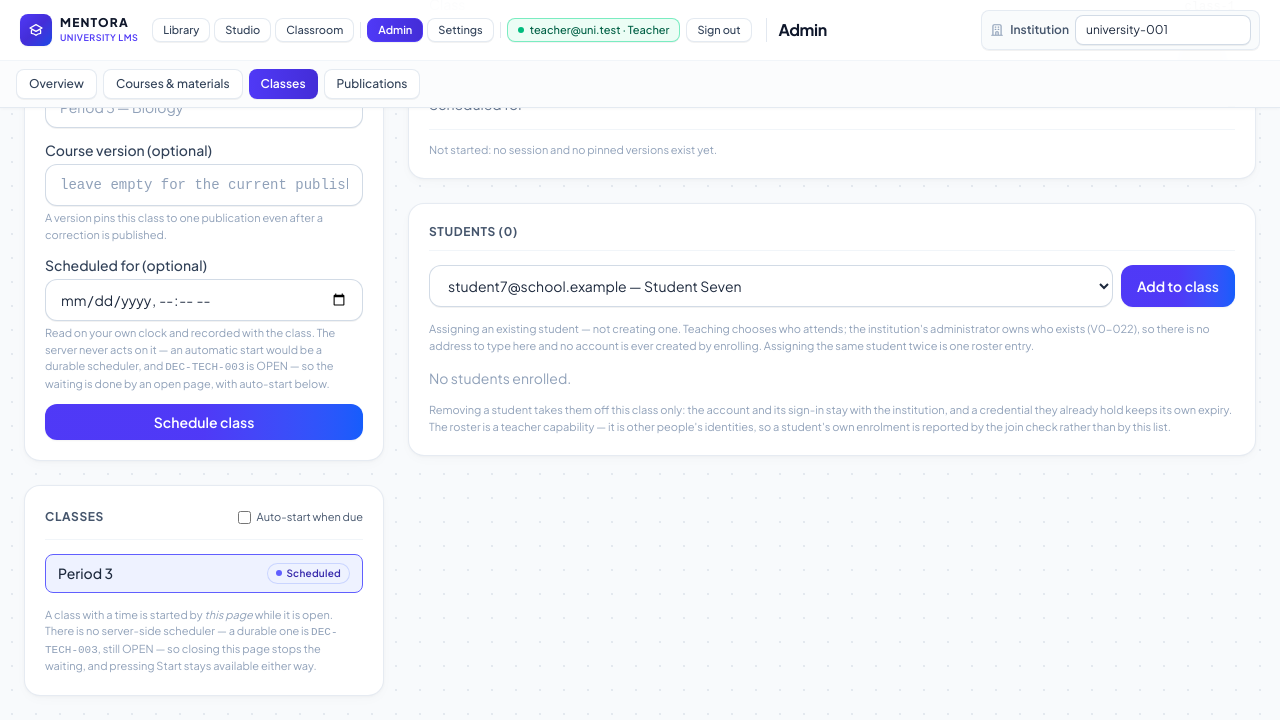
AdminPage — classes › starts a class and assigns an existing student to its roster
(page scrolled)
Click the button "Period 3 Scheduled": [86, 573] box [45,554,363,593]
(page scrolled)
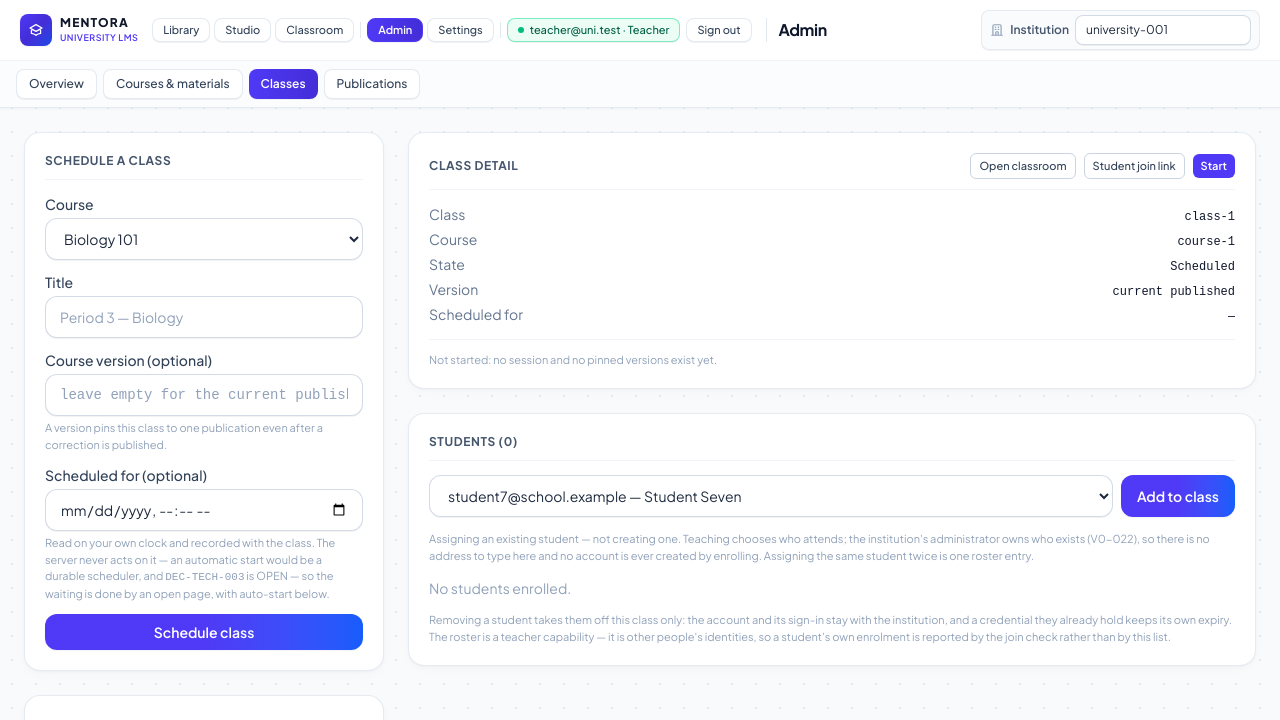
Click the button "Start": [1214, 166] box [1193,154,1235,178]
(page scrolled)
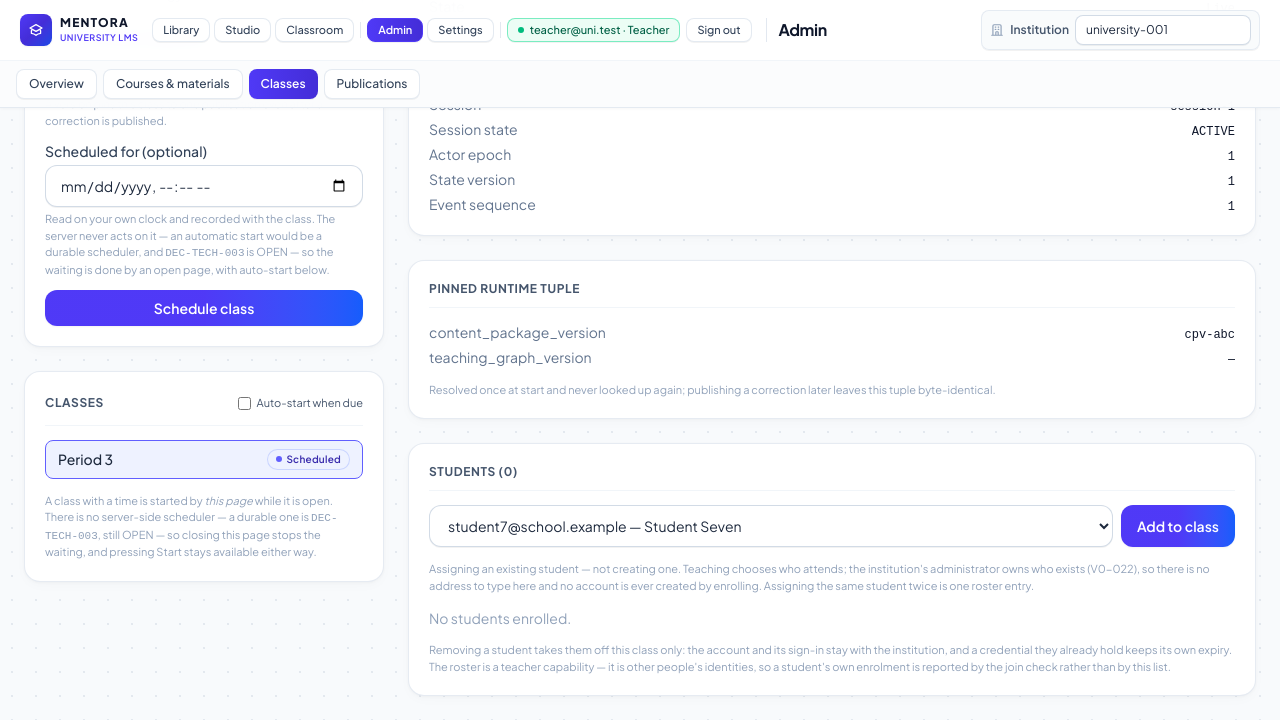
Select "student7@school.example — Student Seven" in the dropdown named "Student": [771, 526] box [429,505,1113,547]
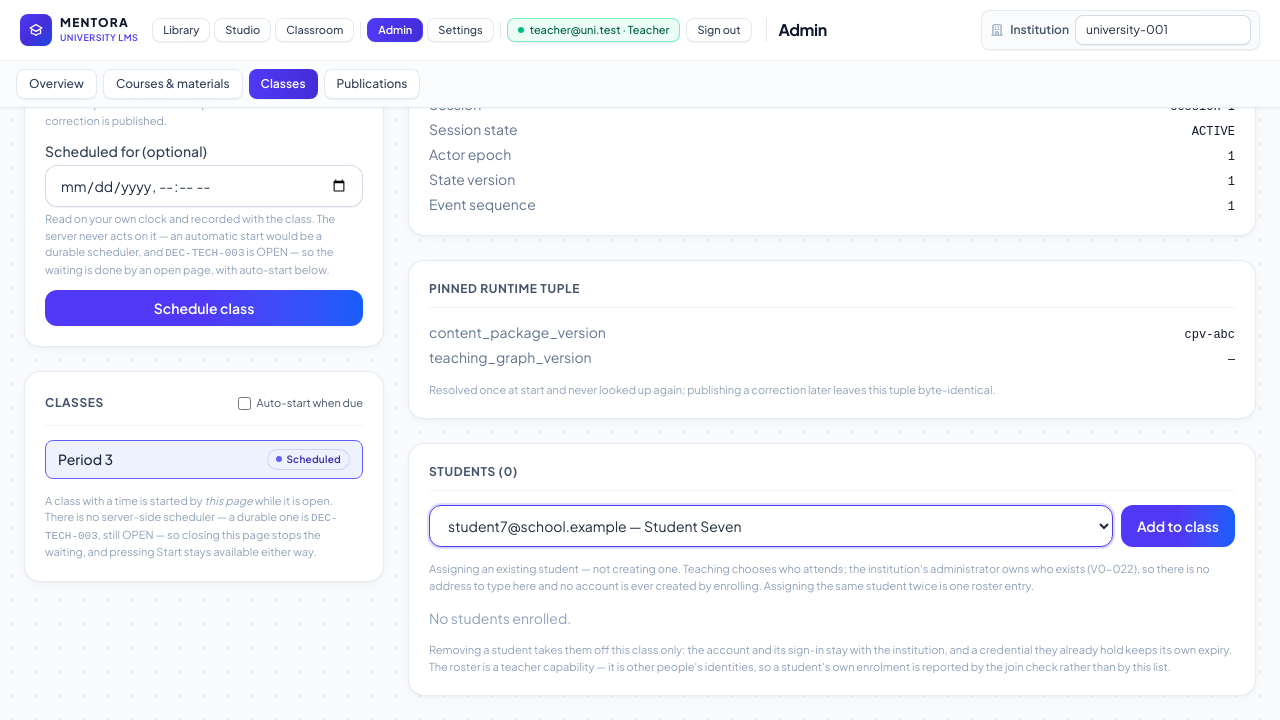
Click the button "Add to class": [1178, 526] box [1121,505,1235,547]
(page scrolled)
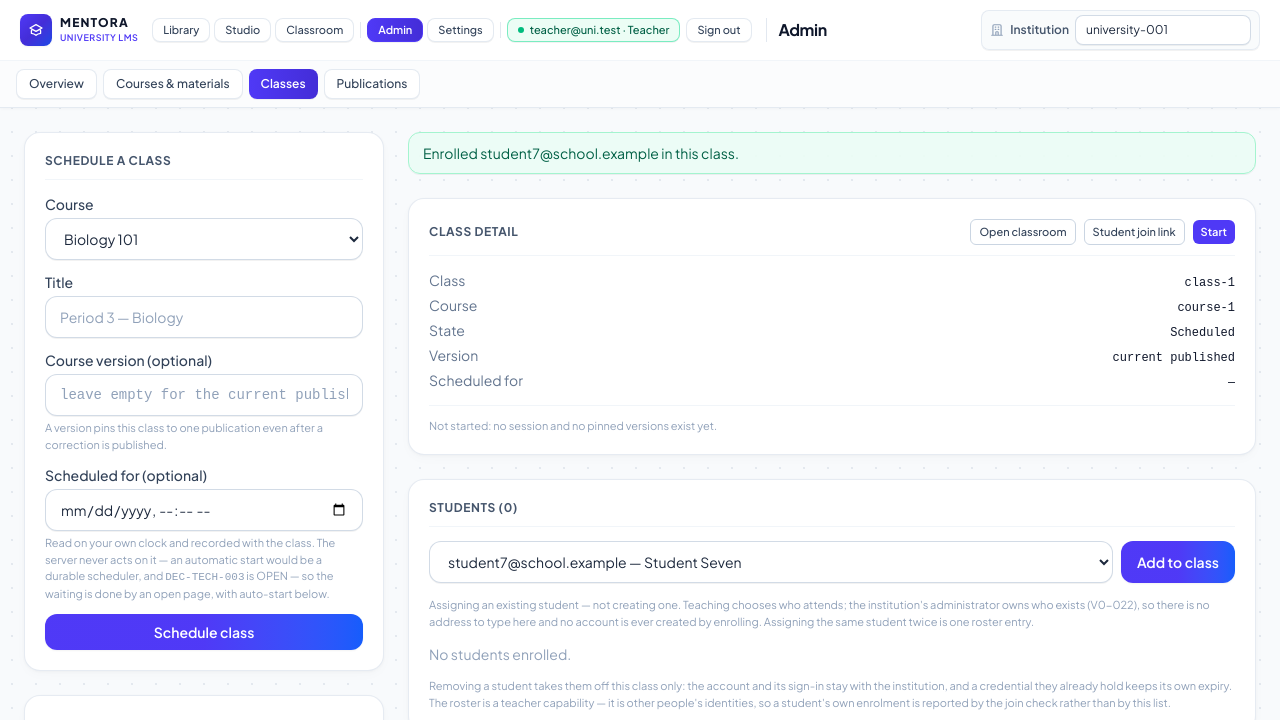
Check: the text "Enrolled student7@school.example in this class." is shown, box [423,144,739,162]
